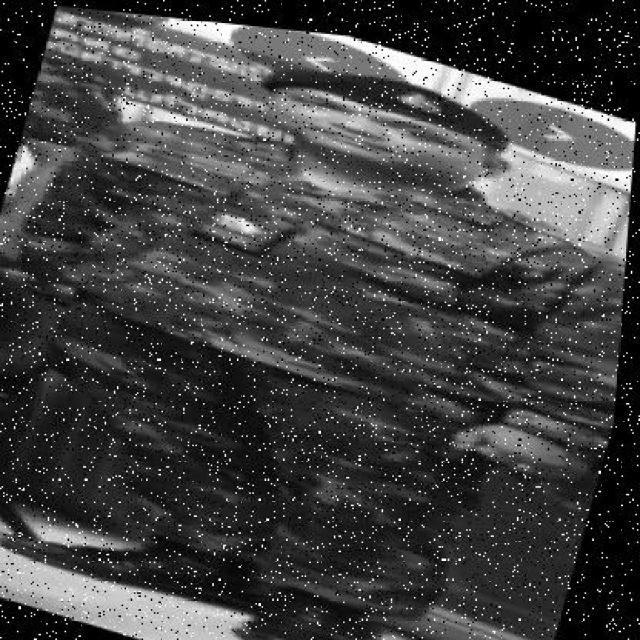MIL_Pax: (32, 6, 548, 640)
